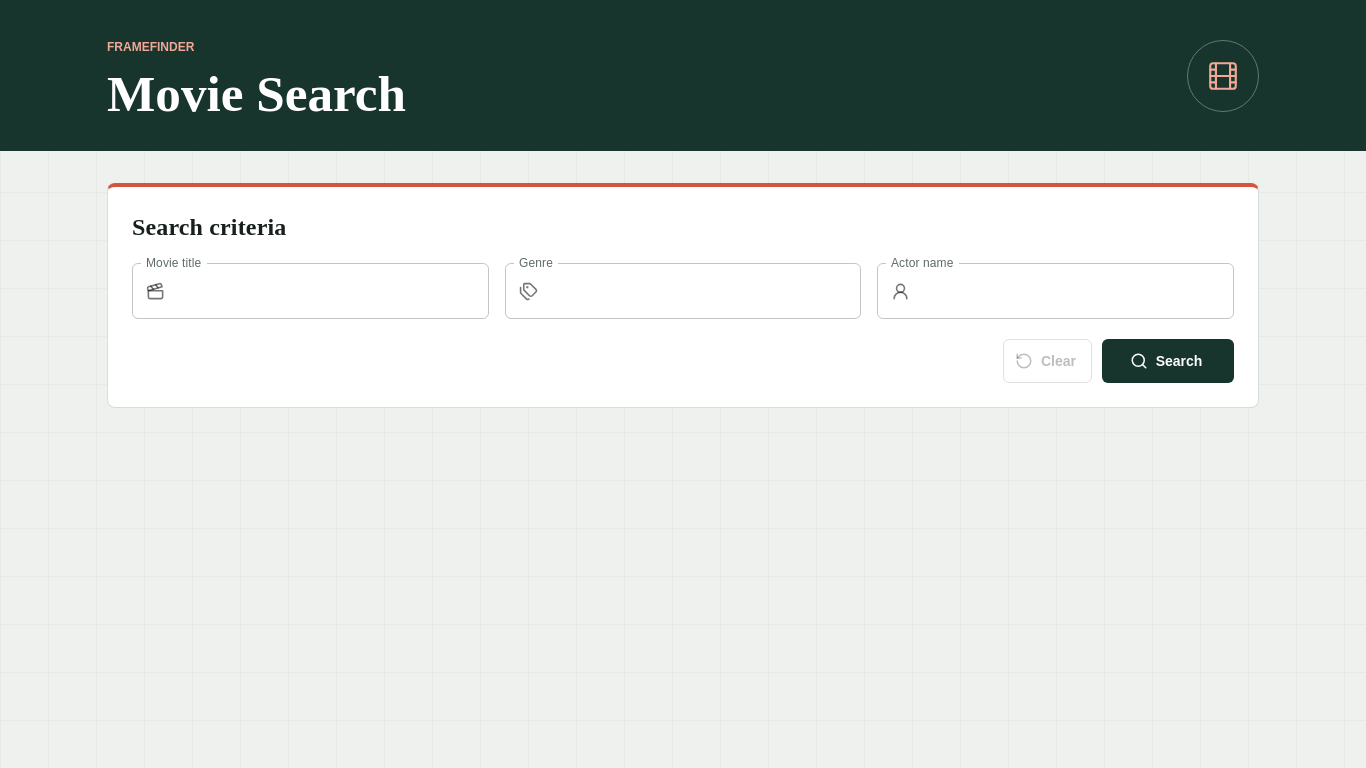
Test case: MovieSearchPage › displays the empty-result state
The width and height of the screenshot is (1366, 768).
Click the button "Search" at (1168, 361), box [1102, 339, 1234, 383]
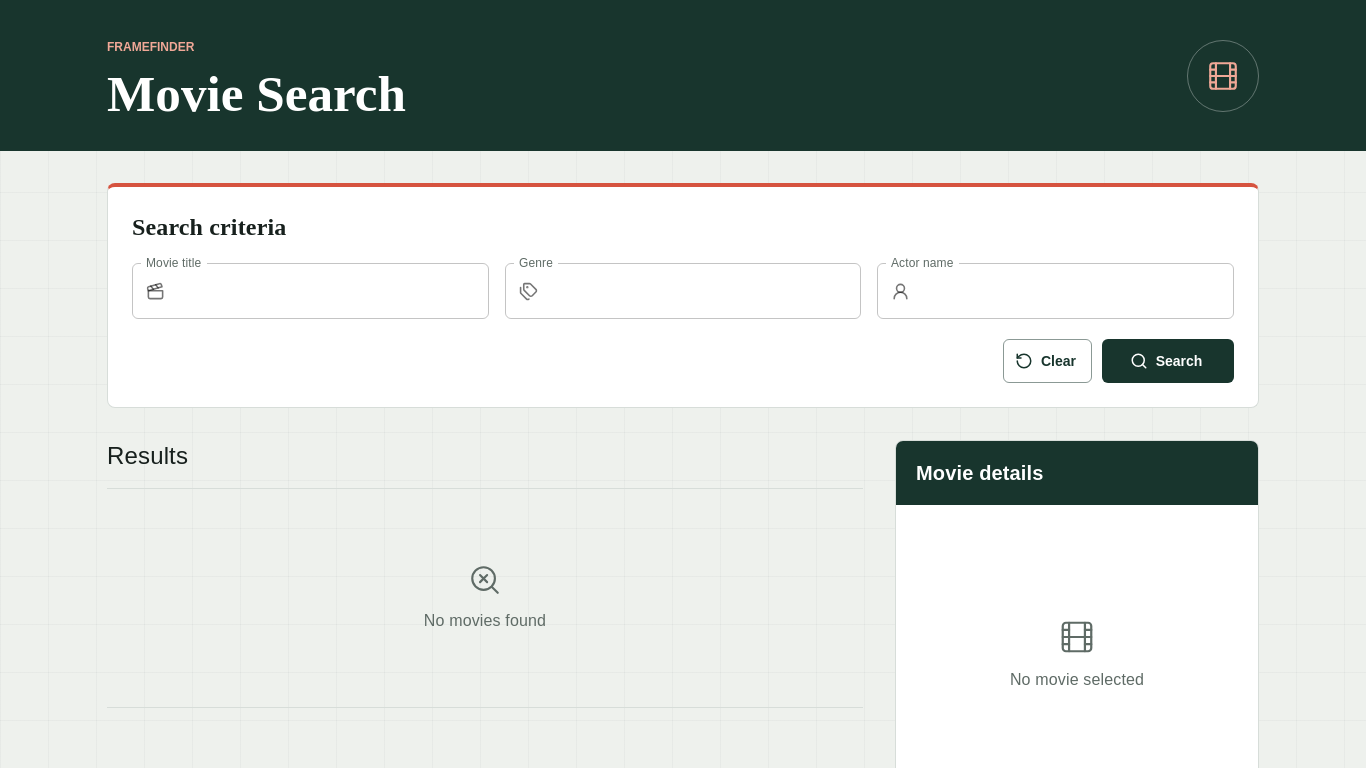
Result: the text "No movies found" is shown at [424, 609, 546, 633]
